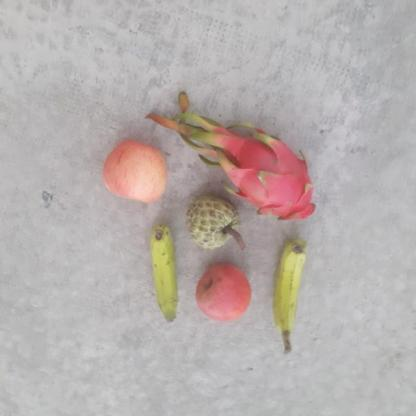annona: (186, 192, 240, 251)
apple: (101, 138, 168, 206), (192, 263, 254, 323)
banana: (266, 240, 310, 332), (140, 217, 178, 321)
pitaya: (226, 129, 319, 223)
